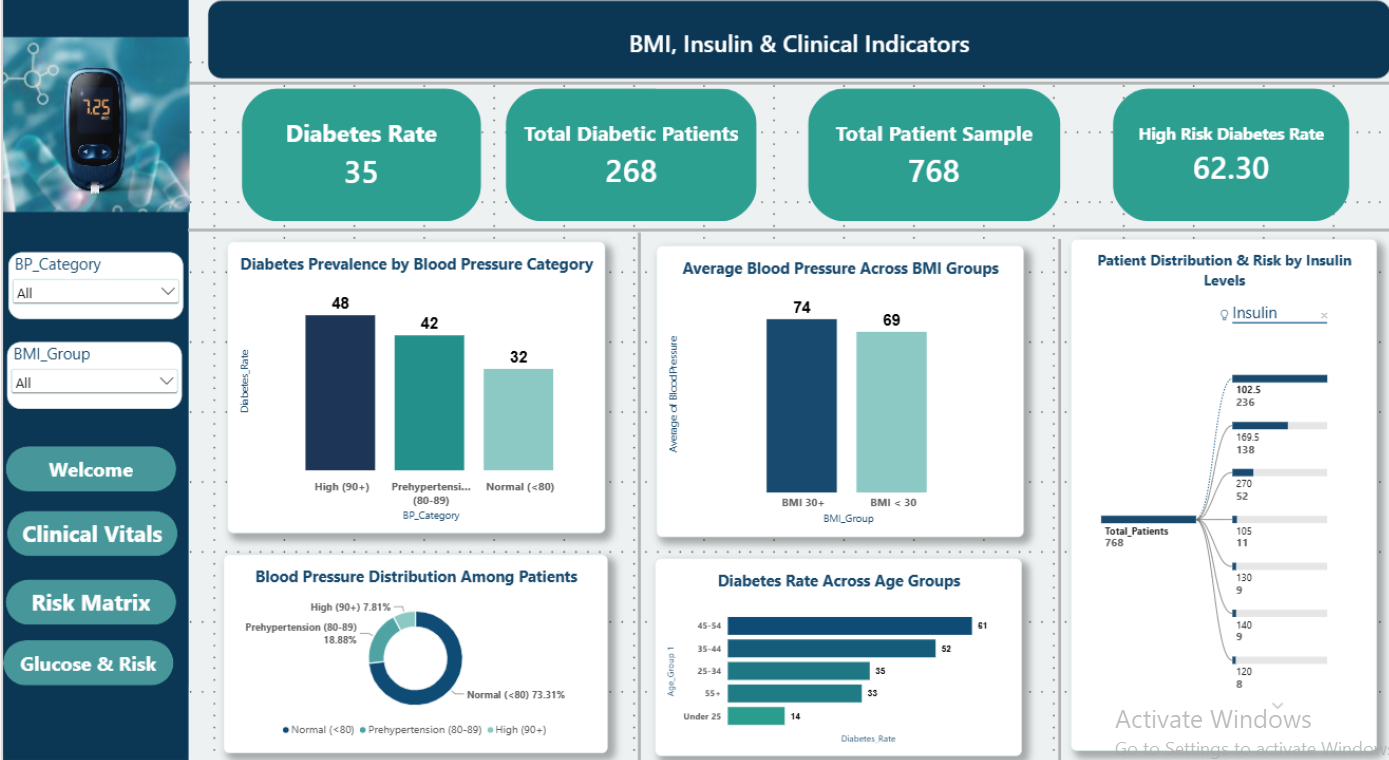

The dashboard page shown, as its layout file describes it:
{"tool":"powerbi","page":{"name":"BMI, Insulin & Clinical Indicators","canvas":[1920,1080],"ordinal":2},"visuals":[{"type":"shape","box":[0,0,254,1056],"z":0},{"type":"shape","box":[254,120,1666,14],"z":1000},{"type":"shape","box":[862,332,22,748],"z":2000},{"type":"shape","box":[1440,340,20,740],"z":3000},{"type":"textbox","box":[280,12,1624,108],"z":4000},{"type":"shape","box":[254,324,1650,8],"z":5000},{"type":"slicer","fields":{"Values":["diabetes_cleaned.BP_Category"]},"box":[8,358,240,92],"z":6000},{"type":"image","box":[2,12,248,346],"z":7000},{"type":"cardVisual","fields":{"Data":["diabetes_cleaned.Diabetes_Rate"]},"box":[328,134,328,182],"z":8000},{"type":"cardVisual","fields":{"Data":["diabetes_cleaned.Diabetic_Patients"]},"box":[690,134,344,182],"z":9000},{"type":"cardVisual","fields":{"Data":["diabetes_cleaned.Total_Patients"]},"box":[1104,134,346,182],"z":10000},{"type":"cardVisual","fields":{"Data":["diabetes_cleaned.Triple_Risk_Rate"]},"box":[1524,134,324,182],"z":11000},{"type":"clusteredColumnChart","title":"Diabetes Prevalence by Blood Pressure Category","fields":{"Category":["diabetes_cleaned.BP_Category"],"Y":["diabetes_cleaned.Diabetes_Rate"]},"box":[308.8,343.6,518,400],"z":12000},{"type":"pieChart","title":"Blood Pressure Distribution Among Patients","fields":{"Category":["diabetes_cleaned.BP_Category"],"Y":["diabetes_cleaned.Total_Patients"]},"box":[301.8,773.1,527.5,272.5],"z":13000},{"type":"barChart","title":"Diabetes Rate Across Age Groups","fields":{"Category":["diabetes_cleaned.Age_Group 1"],"Y":["diabetes_cleaned.Diabetes_Rate"]},"box":[895.4,779.2,503.1,271.4],"z":14000},{"type":"clusteredColumnChart","title":"Average Blood Pressure Across BMI Groups","fields":{"Category":["diabetes_cleaned.BMI_Group"],"Y":["Avg(diabetes_cleaned.BloodPressure)"]},"box":[896,350,504,400],"z":15000},{"type":"decompositionTreeVisual","title":"Patient Distribution & Risk by Insulin Levels","fields":{"Analyze":["diabetes_cleaned.Total_Patients"],"ExplainBy":["diabetes_cleaned.Insulin"]},"box":[1466,340,420,702],"z":16000},{"type":"actionButton","box":[2.8,625.6,234,62],"z":17000},{"type":"actionButton","box":[4.8,713.6,234,62],"z":18000},{"type":"actionButton","box":[2.8,807.6,234,62],"z":19000},{"type":"actionButton","box":[0.8,891.6,234,62],"z":20000},{"type":"slicer","fields":{"Values":["diabetes_cleaned.BMI_Group"]},"box":[6,482,240,92],"z":21000},{"type":"image","box":[0,64,256,240],"z":22000}]}

Visuals, with their boxes on the page's 1920x1080 design canvas (x1, y1, x2, y2). These are canvas units, not pixel positions in the 1389x760 screenshot, which may show the page scaled, cropped or inside an application window:
shape: BBox(0, 0, 254, 1056)
shape: BBox(254, 120, 1920, 134)
shape: BBox(862, 332, 884, 1080)
shape: BBox(1440, 340, 1460, 1080)
textbox: BBox(280, 12, 1904, 120)
shape: BBox(254, 324, 1904, 332)
slicer - diabetes_cleaned.BP_Category: BBox(8, 358, 248, 450)
image: BBox(2, 12, 250, 358)
cardVisual - diabetes_cleaned.Diabetes_Rate: BBox(328, 134, 656, 316)
cardVisual - diabetes_cleaned.Diabetic_Patients: BBox(690, 134, 1034, 316)
cardVisual - diabetes_cleaned.Total_Patients: BBox(1104, 134, 1450, 316)
cardVisual - diabetes_cleaned.Triple_Risk_Rate: BBox(1524, 134, 1848, 316)
"Diabetes Prevalence by Blood Pressure Category" clusteredColumnChart: BBox(309, 344, 827, 744)
"Blood Pressure Distribution Among Patients" pieChart: BBox(302, 773, 829, 1046)
"Diabetes Rate Across Age Groups" barChart: BBox(895, 779, 1398, 1051)
"Average Blood Pressure Across BMI Groups" clusteredColumnChart: BBox(896, 350, 1400, 750)
"Patient Distribution & Risk by Insulin Levels" decompositionTreeVisual: BBox(1466, 340, 1886, 1042)
actionButton: BBox(3, 626, 237, 688)
actionButton: BBox(5, 714, 239, 776)
actionButton: BBox(3, 808, 237, 870)
actionButton: BBox(1, 892, 235, 954)
slicer - diabetes_cleaned.BMI_Group: BBox(6, 482, 246, 574)
image: BBox(0, 64, 256, 304)
